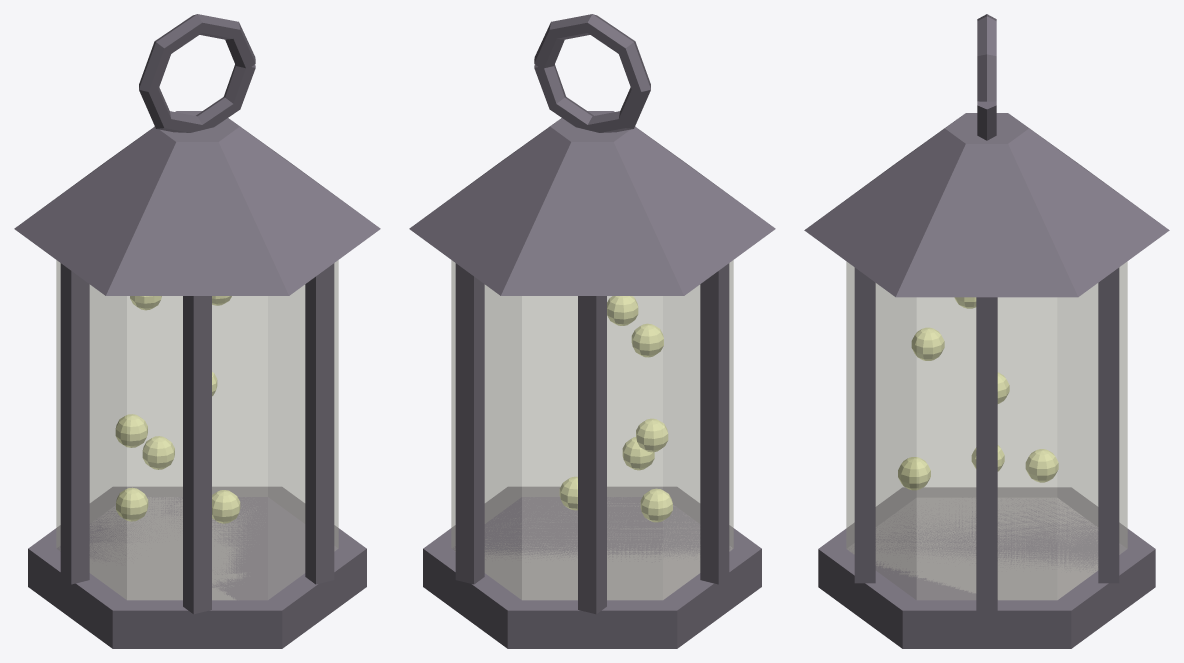
Rendered from FireflyLantern.fbx.
3 renders of one model, left to right at view 1: azimuth 30°, elevation 25°; view 2: azimuth 150°, elevation 25°; view 3: azimuth 270°, elevation 25°, orthographic.
Visible parts, largest first — view 1: Prop_FireflyLantern; view 2: Prop_FireflyLantern; view 3: Prop_FireflyLantern.
Boxes of the visible parts, x1,y1,x2,y2 form: Prop_FireflyLantern: (14, 14, 380, 648); Prop_FireflyLantern: (409, 14, 775, 648); Prop_FireflyLantern: (804, 14, 1169, 648).
Size of the model in its own units: 0.2252 by 0.448 by 0.26.
